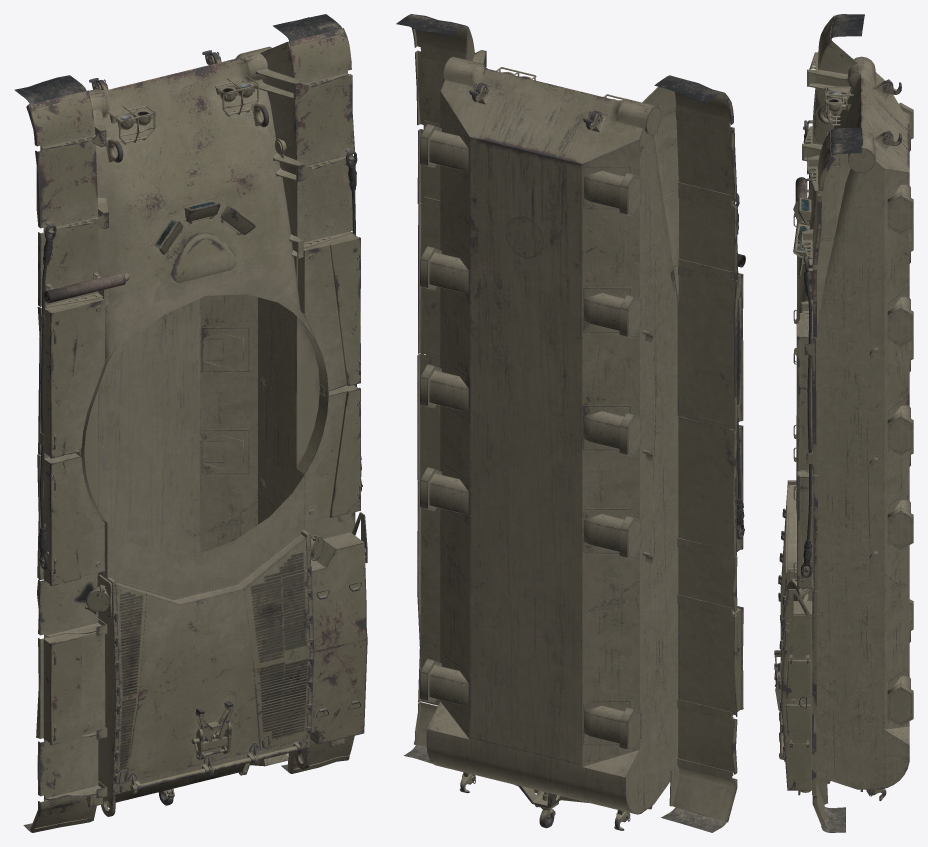
File: Hull.glb
3 renders of one model, left to right at view 1: azimuth 30°, elevation 25°; view 2: azimuth 150°, elevation 25°; view 3: azimuth 270°, elevation 25°, orthographic. The views are drawn at different scales.
Parts seen in each view (by area): view 1: set_0_group_0; view 2: set_0_group_0; view 3: set_0_group_0.
Boxes of the visible parts, bbox=[...] form: set_0_group_0: bbox=[14, 14, 367, 832]; set_0_group_0: bbox=[396, 14, 745, 832]; set_0_group_0: bbox=[774, 14, 913, 832].
Size of the model in its own units: 3.22 by 7.24 by 1.31.
Materials: 1 (1 with a texture image).
